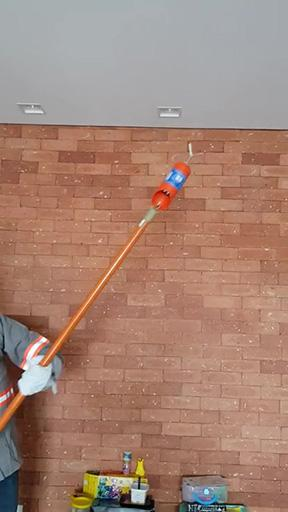Detector_Tensao_Contato: (149, 142, 204, 211)
Vara_Manobra: (1, 209, 159, 425)
